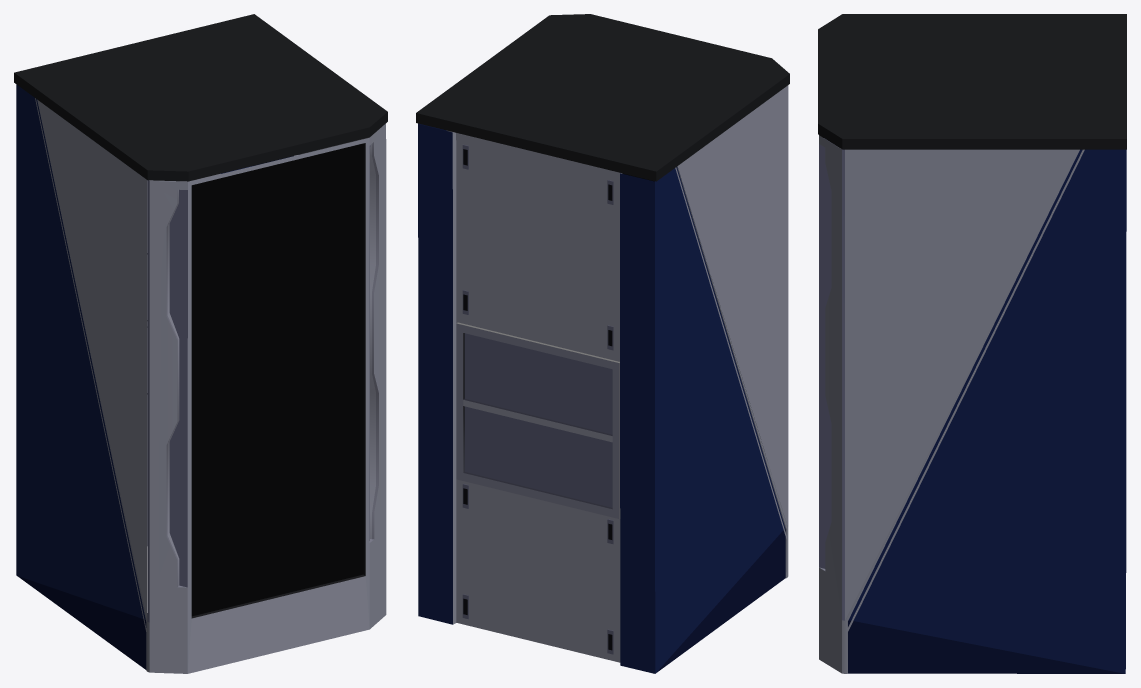
Rendered from Building_008_2st_L3.fbx.
The picture shows the model from 3 angles, left to right: view 1: azimuth 30°, elevation 25°; view 2: azimuth 150°, elevation 25°; view 3: azimuth 270°, elevation 25°; orthographic projection. The views are drawn at different scales.
Visible parts, largest first — view 1: Building_008_2st_L3; view 2: Building_008_2st_L3; view 3: Building_008_2st_L3.
Part boxes in pixels (x1=…): Building_008_2st_L3: x1=14, y1=14, x2=387, y2=673; Building_008_2st_L3: x1=416, y1=14, x2=789, y2=673; Building_008_2st_L3: x1=818, y1=14, x2=1126, y2=673.
Size of the model in its own units: 37.71 by 75.43 by 39.4.
